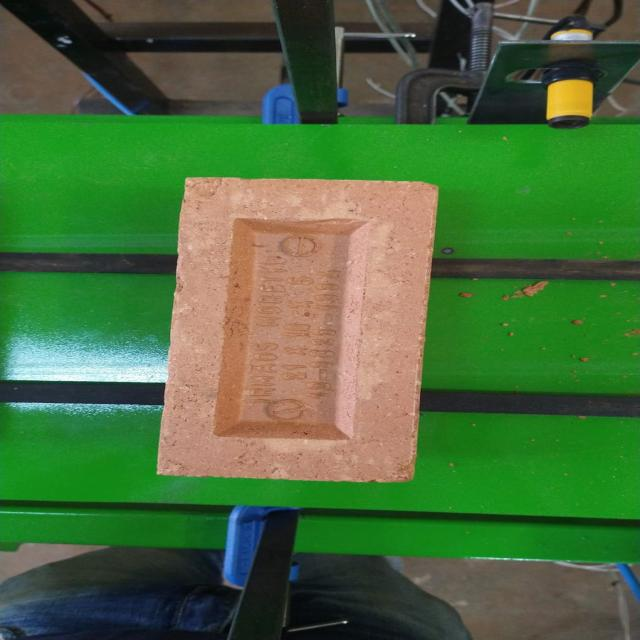bricks: (153, 175, 436, 481)
